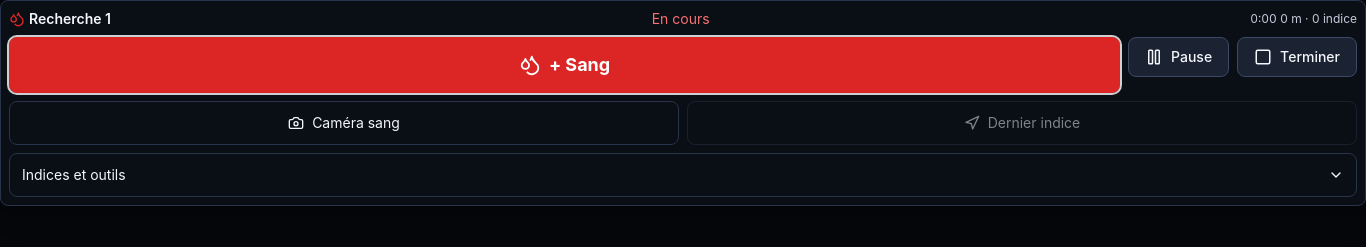
Test: BloodPanel › flags a low-accuracy position instead of hiding it
This screenshot has width=1366, height=247.
What coordinates should you click on to do the following:
click the button "+ Sang"
I would click on:
 (564, 65)
Its box is [9,37,1120,93].
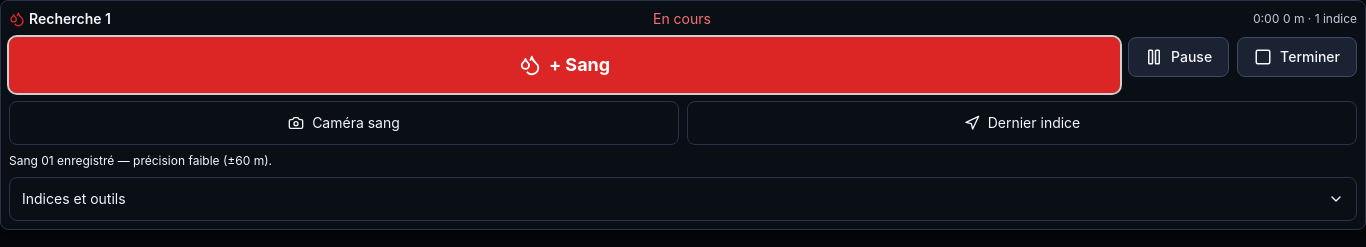
Now the text "Sang 01 enregistré — précision faible (±60 m)." is shown, box [9,153,272,168]
